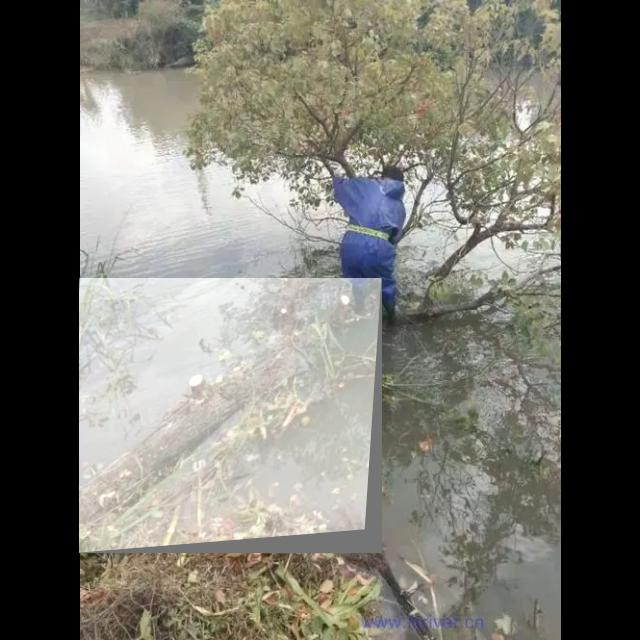Fallen Tree: (79, 278, 383, 554)
